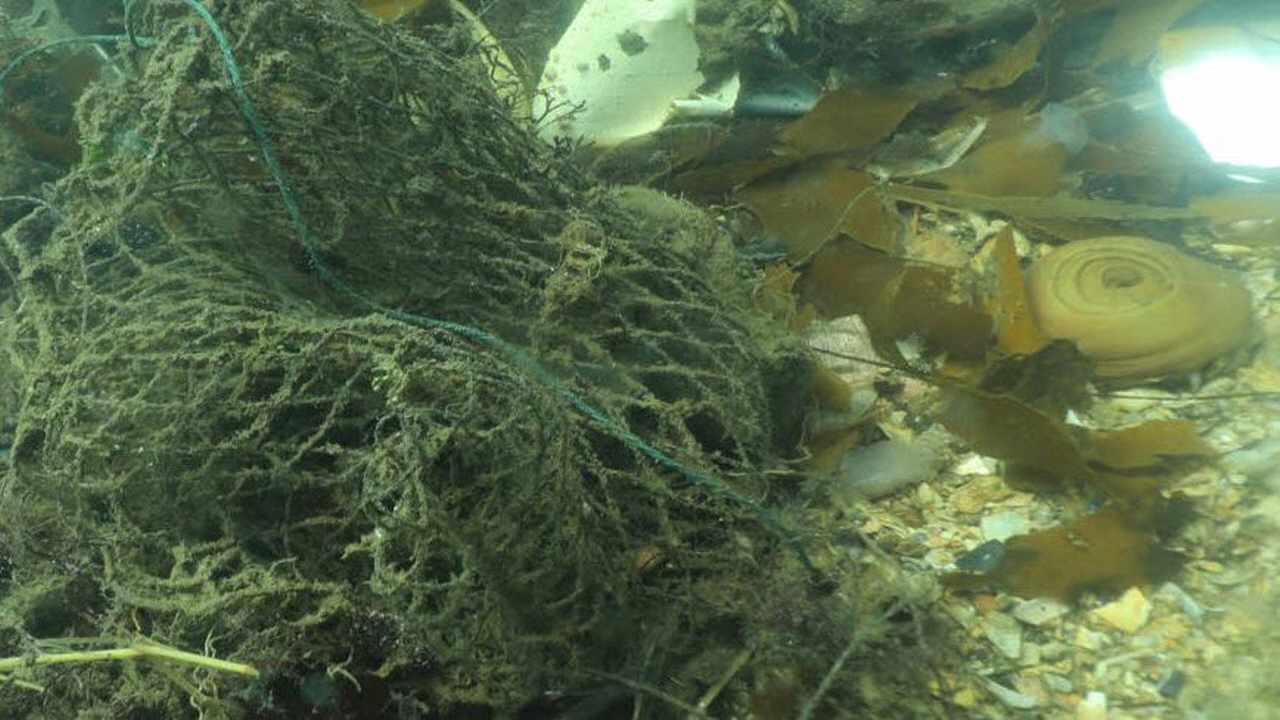fish net: (0, 0, 773, 719)
